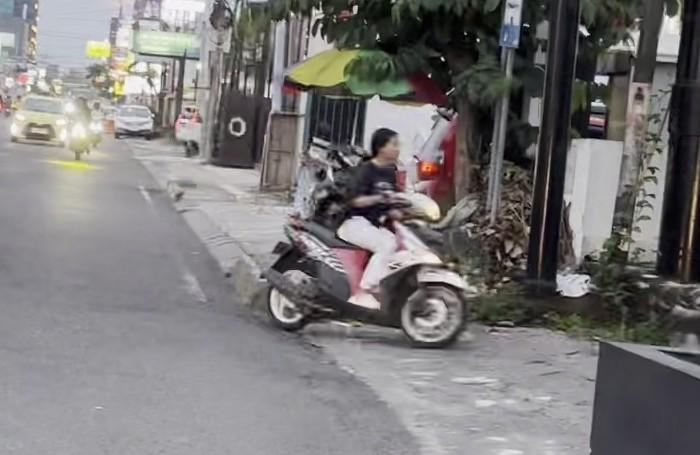nohelm: (370, 127, 401, 162)
riding: (258, 126, 478, 349)
